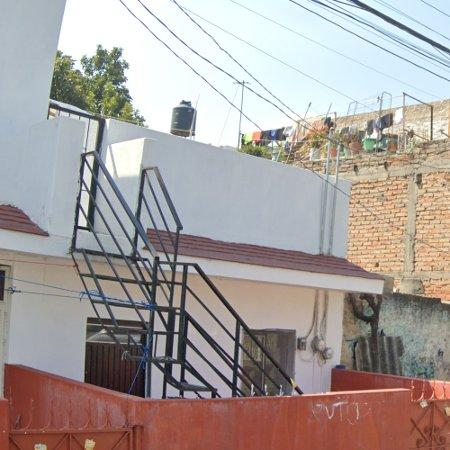stairs: (72, 153, 303, 400)
